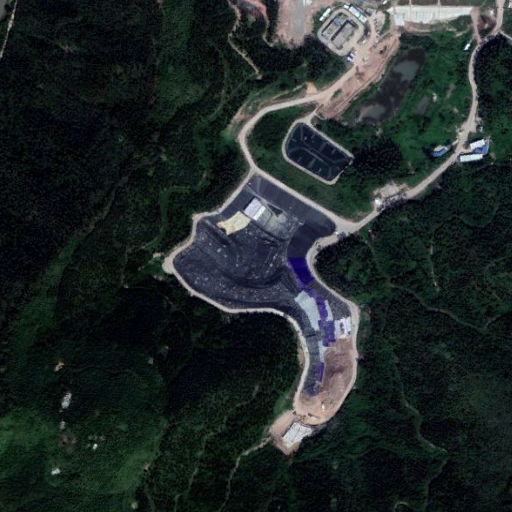lf: (172, 174, 358, 422)
